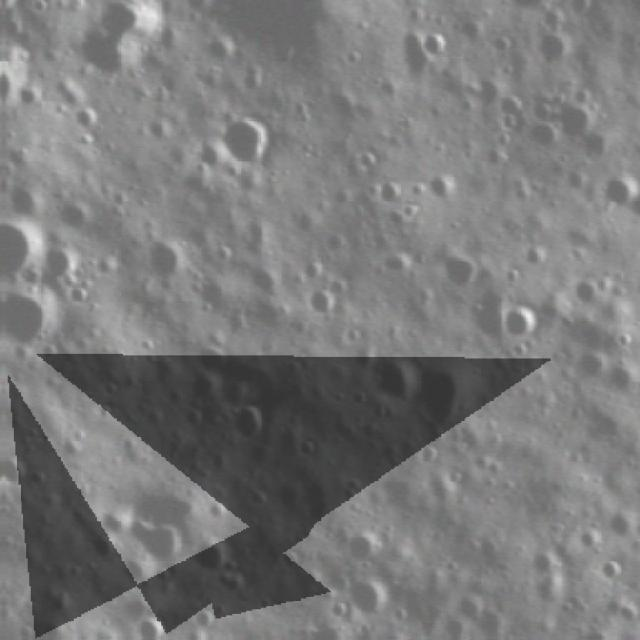crater: (70, 0, 176, 102), (106, 509, 192, 577), (408, 356, 475, 436), (0, 284, 60, 364), (210, 108, 281, 170), (136, 231, 202, 294), (0, 210, 45, 290), (329, 568, 393, 623), (0, 35, 37, 130), (364, 350, 418, 412), (578, 402, 640, 455), (584, 160, 638, 217), (430, 246, 482, 297), (547, 96, 602, 144), (220, 393, 266, 447), (480, 90, 531, 138), (332, 520, 379, 571), (498, 302, 550, 348), (184, 533, 233, 581), (186, 340, 239, 382), (35, 237, 79, 286), (525, 28, 572, 72), (2, 182, 48, 223), (567, 346, 610, 388), (49, 196, 94, 236), (414, 23, 457, 63), (420, 168, 463, 206), (56, 102, 104, 136), (598, 508, 640, 546), (297, 290, 338, 325), (565, 274, 601, 311), (0, 453, 32, 494), (371, 248, 411, 280), (600, 362, 635, 398), (184, 604, 222, 636), (365, 177, 403, 209), (128, 609, 166, 640), (516, 243, 552, 272), (589, 556, 623, 586)
